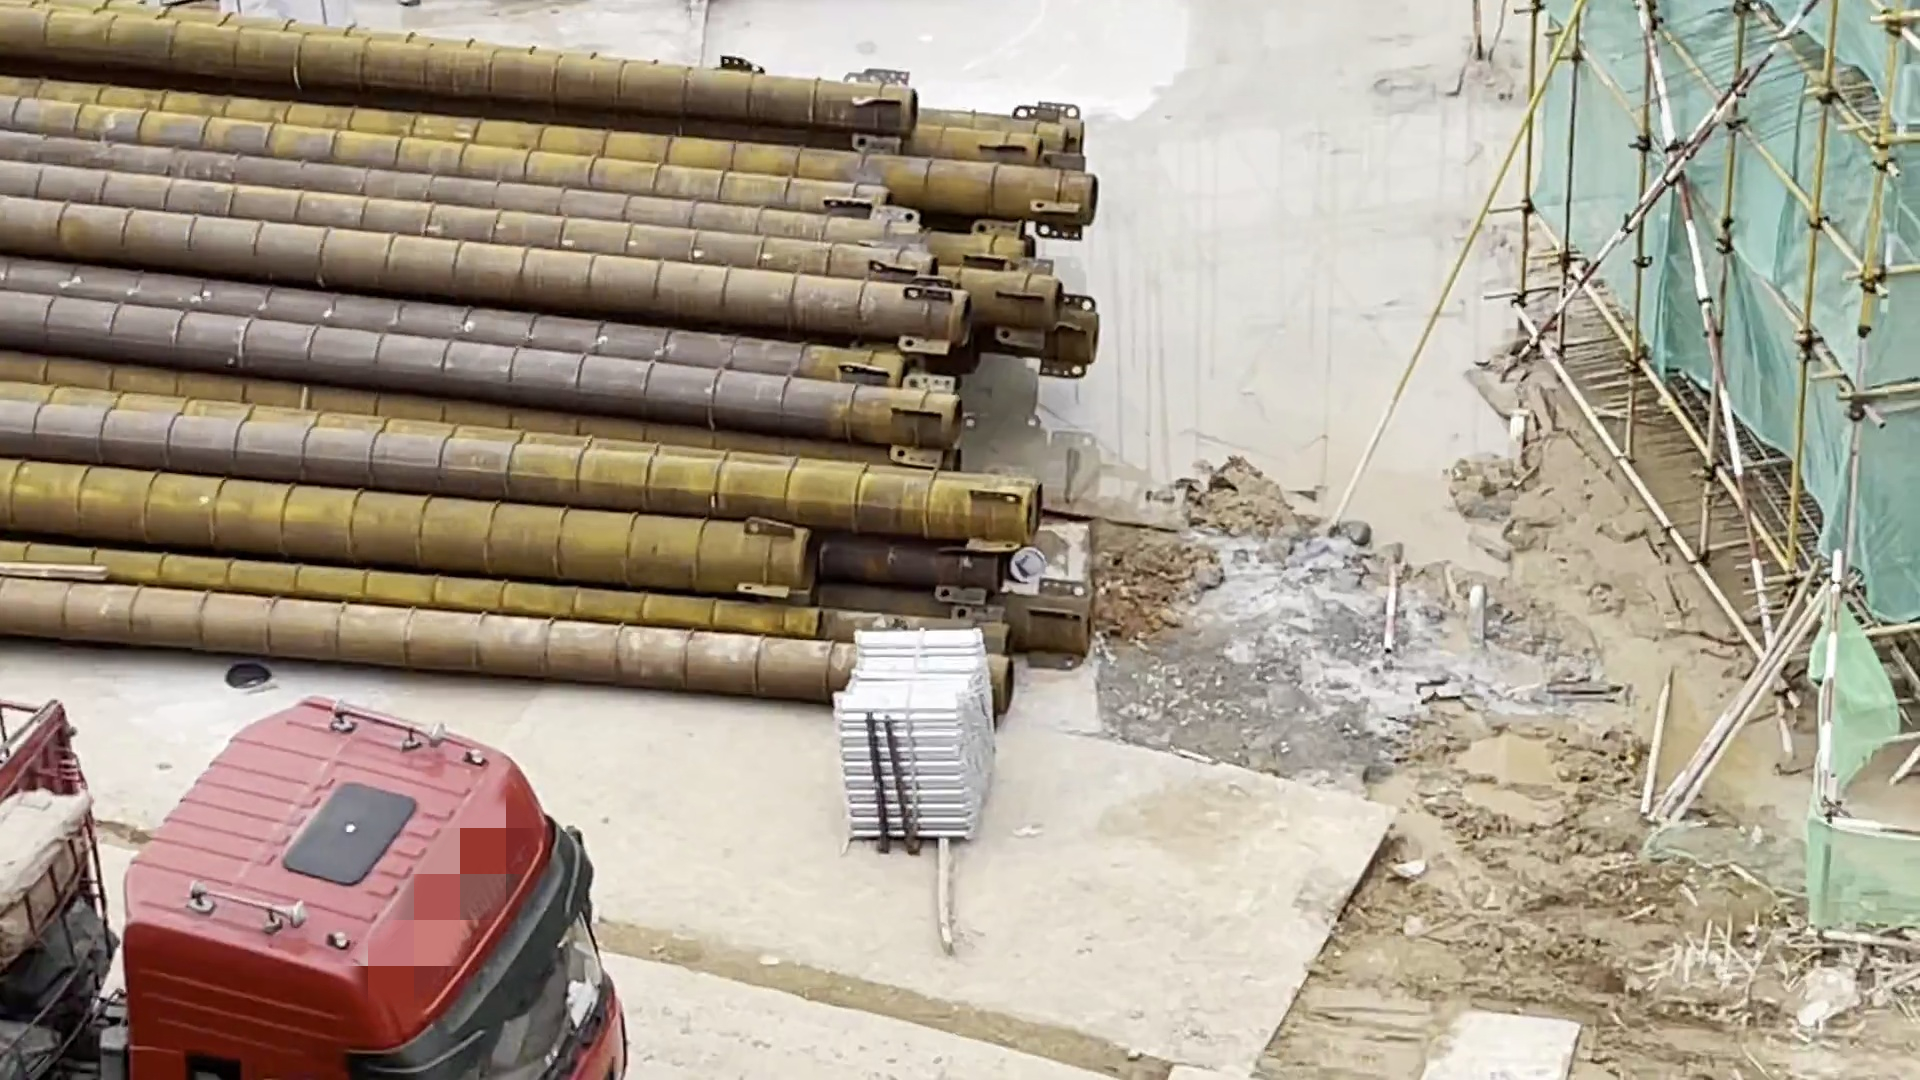scaffold: (814, 607, 1040, 881)
